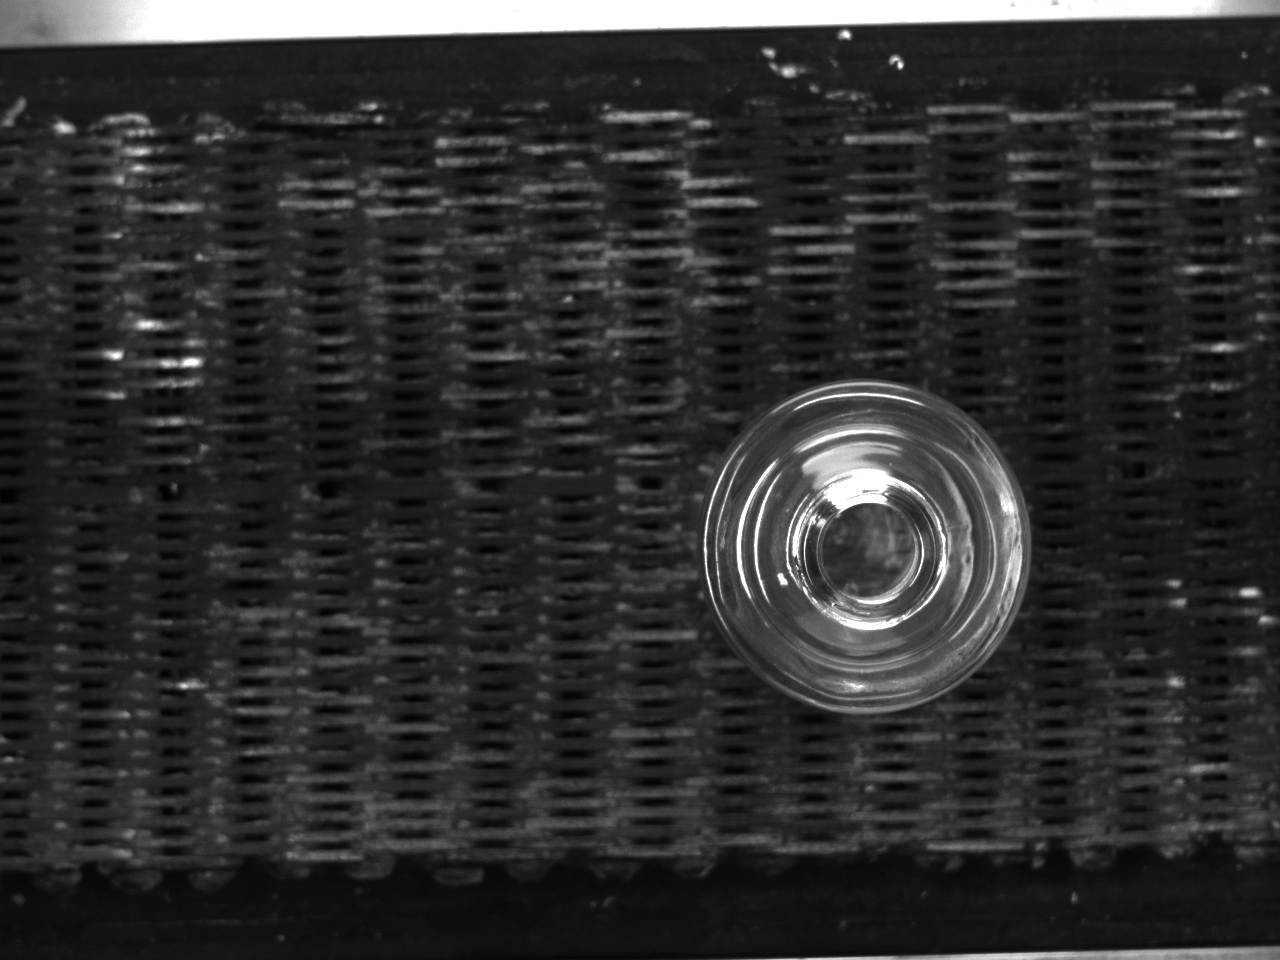bottleneck: (793, 471, 950, 632)
